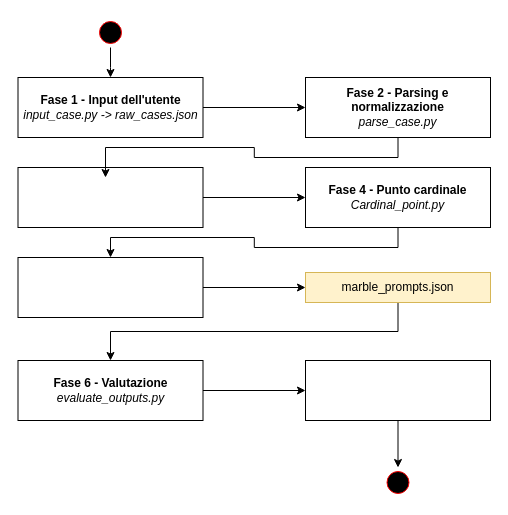
Some shapes in this 508 by 515 pixel diagram are drawn without their labels. The shapes that lost their labels are listed below. From the top down, each one's centre as x and y in pixels, then its label:
At point 110,197: "Fase 3 - Fusione emozionale emotion_fusion.py".
At point 110,287: "Fase 5 - Generazione Prompt Marble build_marble_prompt.py".
At point 397,390: "Fase 7 - Generazione Marble copia manuale del prompt".
